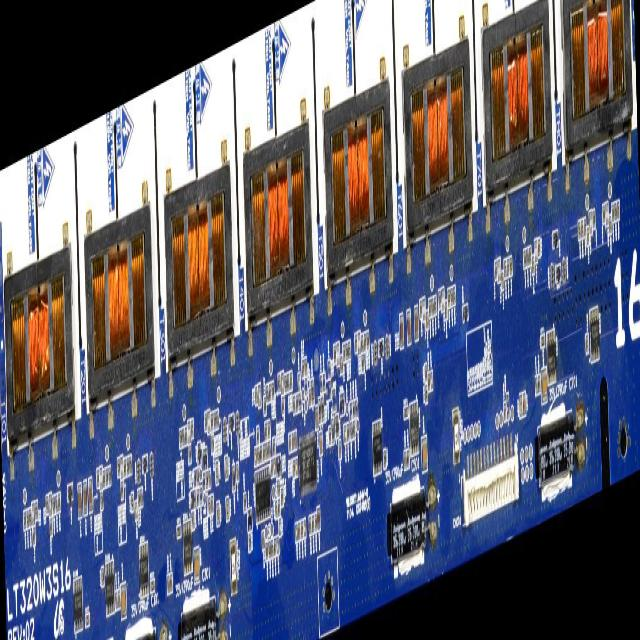Capacitor: (541, 368, 547, 404), (421, 436, 427, 471), (120, 585, 126, 619), (194, 548, 199, 584), (399, 313, 404, 348), (406, 309, 411, 343), (414, 308, 418, 342), (82, 480, 86, 512), (88, 479, 92, 511), (78, 485, 81, 519), (522, 392, 526, 417), (257, 385, 261, 409), (357, 332, 361, 356), (280, 372, 284, 394), (441, 290, 445, 312), (589, 210, 592, 236), (534, 238, 537, 263), (605, 202, 608, 227), (49, 493, 52, 517), (187, 420, 190, 444), (317, 507, 320, 531), (422, 298, 425, 321), (120, 457, 123, 479), (207, 412, 210, 434), (336, 344, 339, 366), (315, 406, 318, 428), (99, 467, 102, 488), (319, 432, 322, 453), (430, 371, 433, 391), (273, 457, 276, 477), (303, 518, 306, 538), (297, 522, 300, 542), (308, 515, 311, 535), (308, 388, 311, 407), (291, 434, 294, 453), (278, 517, 281, 536), (298, 392, 301, 410), (236, 464, 239, 482), (169, 574, 172, 592), (338, 441, 341, 458), (498, 259, 500, 283), (295, 459, 298, 475), (117, 592, 120, 608), (32, 503, 34, 526), (262, 530, 264, 552), (134, 502, 136, 520), (254, 449, 256, 467), (294, 432, 296, 450), (211, 496, 213, 514), (344, 426, 346, 444), (115, 592, 117, 610), (535, 376, 537, 394), (295, 524, 297, 542), (276, 538, 278, 556), (298, 374, 300, 391), (304, 378, 306, 395), (288, 435, 290, 452), (538, 375, 540, 392), (407, 450, 409, 467), (312, 515, 314, 532), (167, 578, 169, 594), (404, 452, 406, 468)
Resistor Network: (84, 611, 90, 627), (120, 479, 124, 502), (100, 564, 104, 587), (128, 454, 132, 476), (178, 428, 182, 450), (116, 457, 120, 478), (130, 493, 134, 514), (107, 465, 111, 485), (344, 341, 348, 360), (347, 341, 351, 360), (322, 373, 326, 392), (207, 470, 211, 489), (354, 399, 358, 418), (176, 524, 181, 539), (45, 493, 48, 517), (522, 250, 526, 268), (424, 385, 428, 403), (403, 406, 408, 420), (190, 418, 193, 441), (256, 446, 260, 463), (125, 456, 128, 478), (140, 488, 143, 510), (225, 457, 228, 479), (216, 502, 219, 524), (105, 467, 108, 488), (185, 425, 188, 446), (501, 270, 504, 291), (215, 462, 218, 483), (96, 468, 99, 488), (304, 357, 307, 377), (57, 492, 60, 512), (102, 468, 105, 488), (52, 497, 55, 517), (123, 458, 126, 478), (354, 334, 357, 354), (494, 262, 497, 282), (537, 238, 540, 258), (509, 256, 512, 276), (263, 396, 266, 416), (32, 526, 35, 546), (49, 518, 52, 538), (188, 446, 191, 466), (137, 488, 140, 508), (193, 468, 196, 488), (270, 458, 273, 478), (346, 422, 349, 442), (349, 422, 352, 442), (292, 458, 295, 478), (277, 497, 280, 517), (28, 507, 31, 526), (602, 205, 605, 224), (506, 258, 509, 277), (608, 215, 611, 234), (210, 435, 213, 454), (361, 355, 364, 374), (256, 427, 259, 446), (205, 471, 208, 490), (352, 402, 355, 421), (427, 373, 430, 392), (383, 449, 386, 468), (150, 579, 154, 593), (255, 386, 258, 404), (419, 300, 422, 318), (284, 376, 287, 394), (428, 298, 431, 316), (452, 287, 455, 305), (504, 260, 507, 278), (424, 364, 427, 382), (243, 494, 246, 512), (275, 502, 278, 520), (248, 534, 251, 552), (540, 335, 544, 348), (213, 412, 216, 429), (271, 382, 274, 399), (349, 402, 352, 419), (196, 491, 199, 508), (280, 489, 283, 506), (204, 410, 206, 434), (586, 229, 589, 245), (267, 423, 270, 439), (328, 427, 331, 443), (273, 539, 276, 555), (23, 510, 25, 532), (26, 508, 28, 530), (208, 494, 210, 516), (192, 510, 194, 532), (226, 498, 228, 520), (520, 395, 522, 417), (55, 493, 57, 514), (182, 427, 184, 448), (328, 360, 330, 381), (35, 501, 37, 521), (343, 343, 345, 363), (334, 345, 336, 364), (361, 334, 363, 353), (614, 201, 616, 220), (340, 355, 342, 374), (426, 312, 428, 331), (445, 301, 447, 320), (302, 360, 304, 378), (278, 376, 280, 394), (210, 413, 212, 431), (438, 290, 440, 308), (287, 374, 289, 392), (269, 385, 271, 403), (266, 386, 268, 404), (366, 332, 368, 350), (364, 334, 366, 352), (434, 295, 436, 313), (450, 288, 452, 306), (431, 298, 433, 316), (592, 210, 594, 228), (526, 248, 528, 266), (580, 220, 582, 238), (584, 219, 586, 237), (617, 202, 619, 220), (532, 256, 534, 274), (320, 376, 322, 394), (282, 398, 284, 416), (296, 394, 298, 412), (293, 396, 295, 414), (265, 422, 267, 440), (260, 444, 262, 462), (262, 444, 264, 462), (272, 439, 274, 457), (353, 421, 355, 439), (278, 480, 280, 498), (586, 334, 588, 352), (314, 514, 316, 532), (300, 521, 302, 539), (268, 540, 270, 558), (216, 411, 218, 428), (529, 248, 531, 265), (100, 493, 102, 510), (196, 471, 198, 488), (265, 443, 267, 460), (200, 489, 202, 506), (504, 403, 506, 420), (266, 543, 268, 560), (271, 540, 273, 557), (290, 373, 292, 389), (578, 222, 580, 238), (612, 204, 614, 220), (268, 442, 270, 458), (448, 291, 450, 306)
